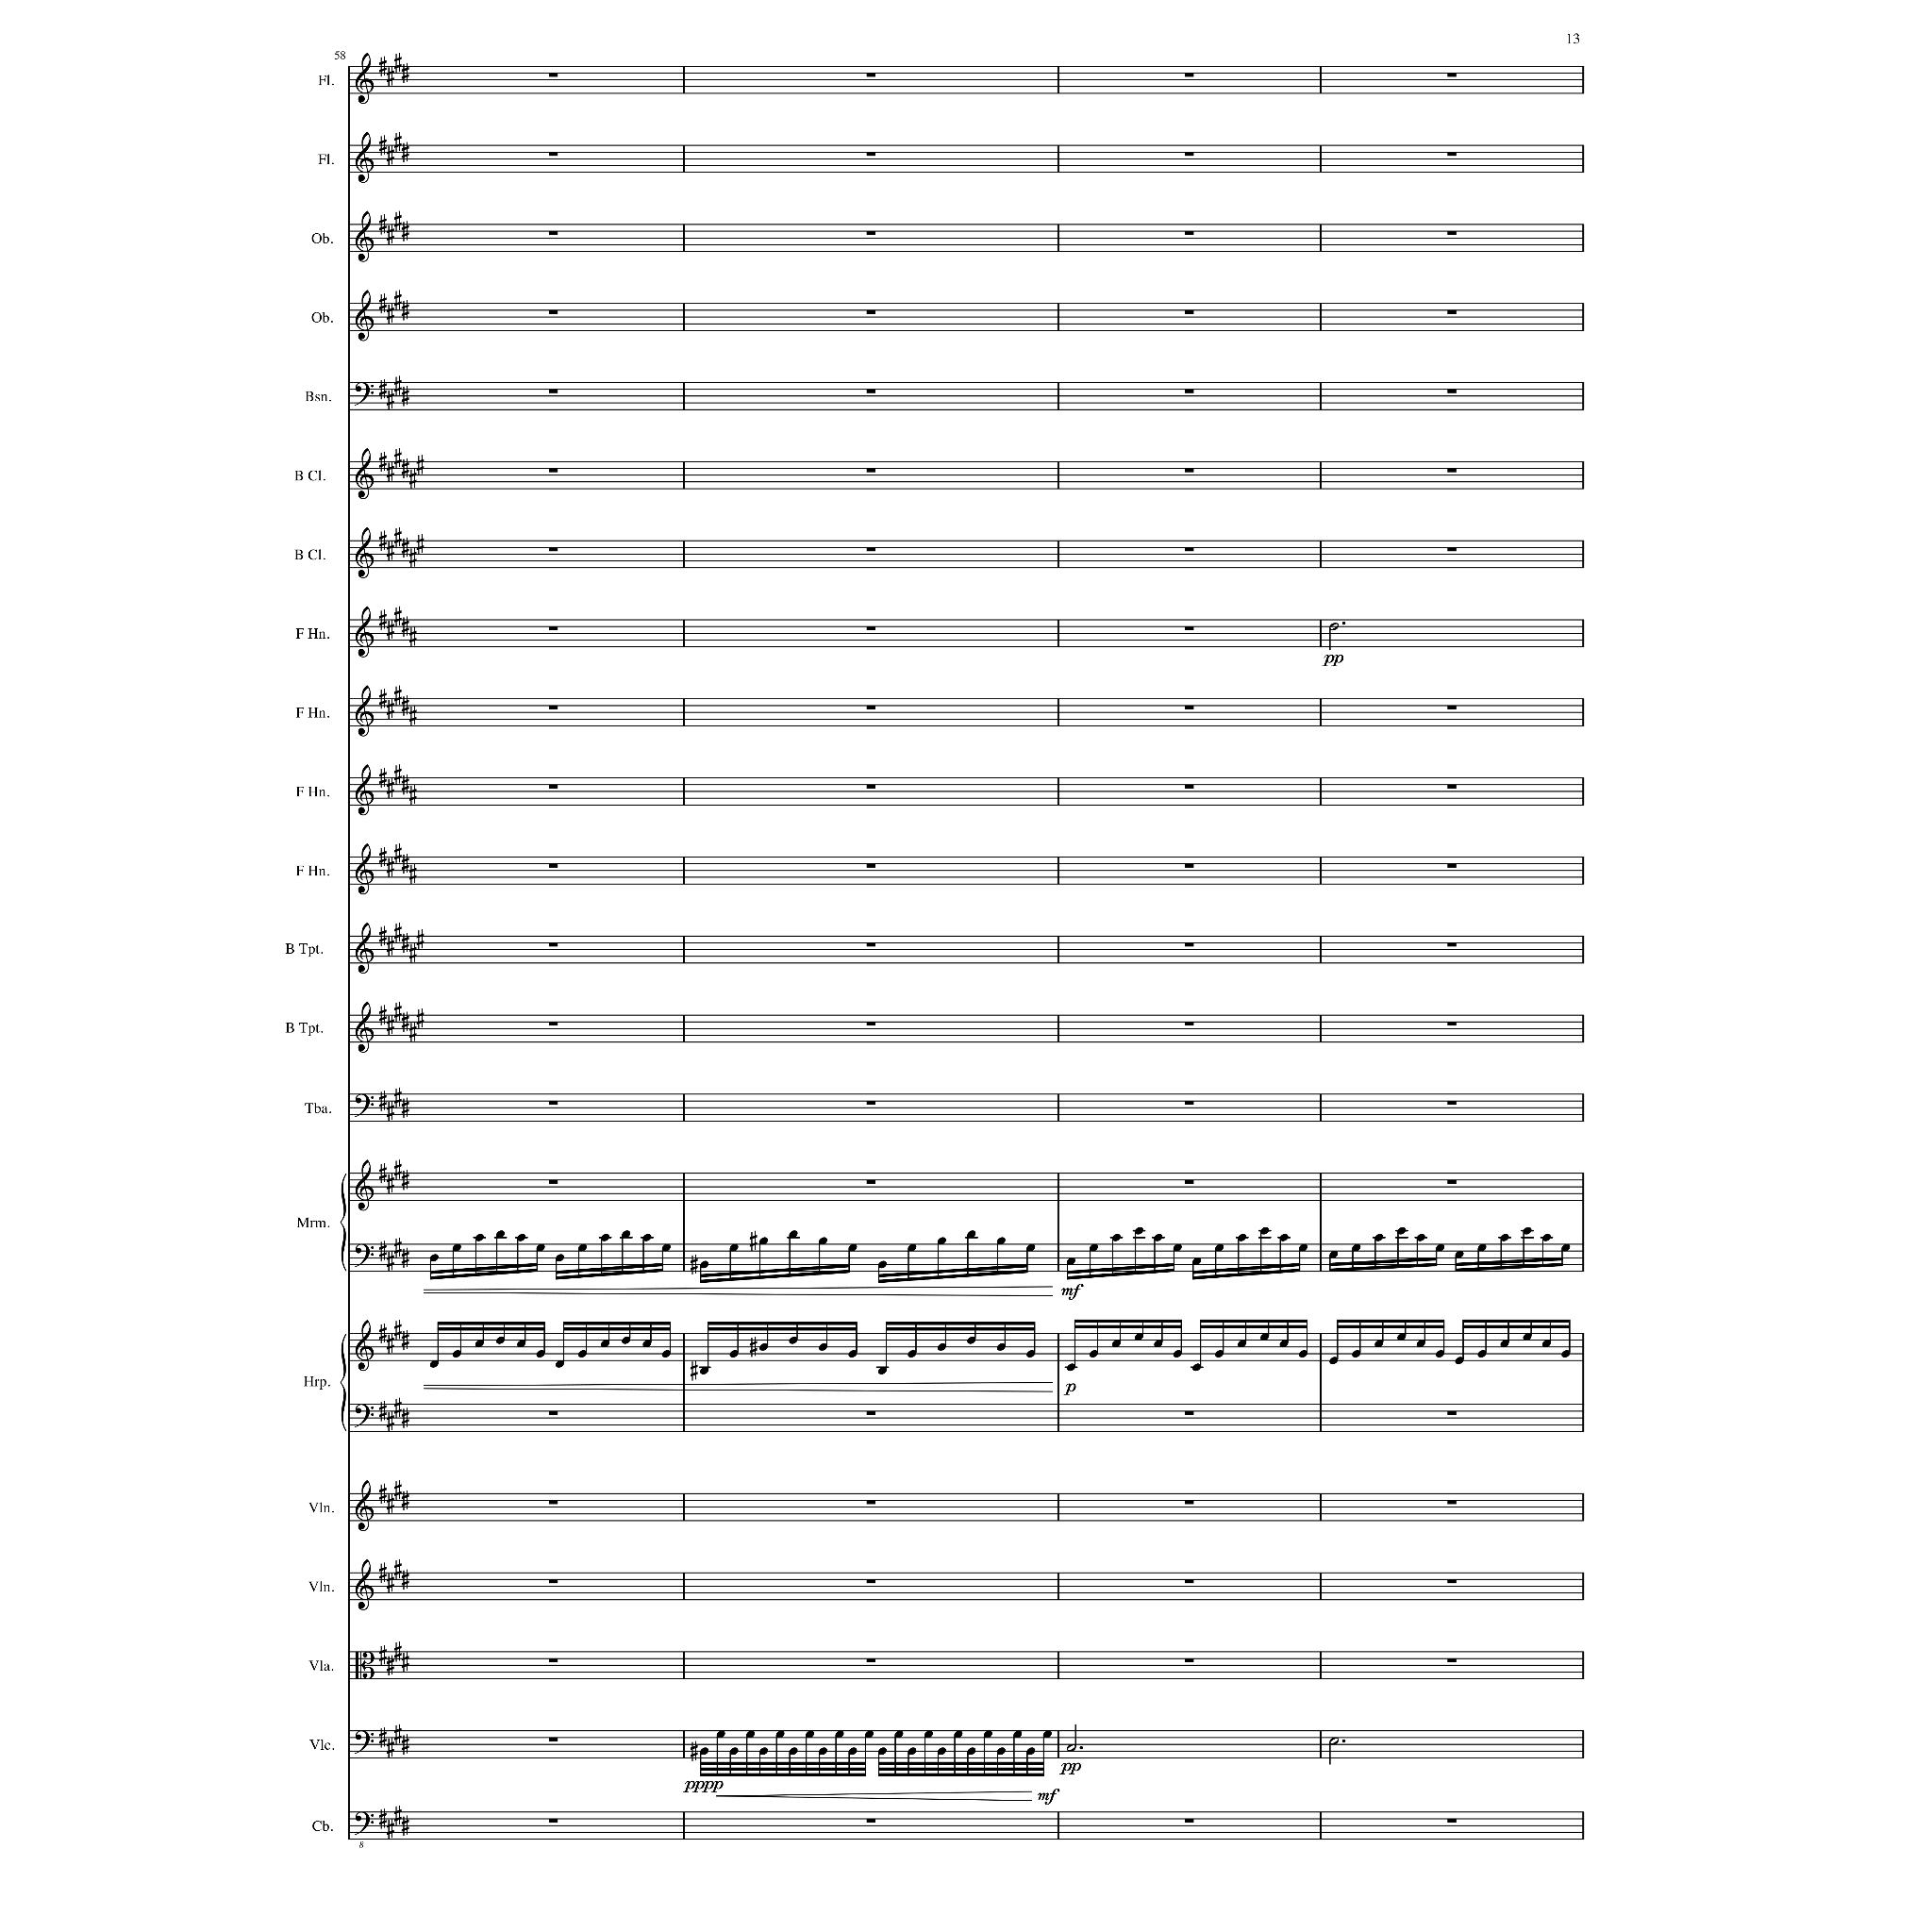brace: (340, 1173, 345, 1272), (340, 1334, 345, 1431)
fClef: (354, 1093, 373, 1118), (354, 382, 373, 407), (354, 1812, 373, 1835), (354, 1730, 373, 1753), (354, 1244, 373, 1267), (354, 1405, 373, 1428)
gClef: (354, 842, 373, 895), (354, 1479, 373, 1532), (354, 288, 373, 341), (354, 131, 373, 184), (354, 1161, 373, 1212), (354, 1001, 373, 1053), (354, 922, 373, 973), (354, 1559, 373, 1610), (354, 1320, 373, 1371), (354, 211, 373, 262), (354, 53, 373, 104), (354, 764, 373, 816), (354, 685, 373, 736), (354, 607, 373, 658), (354, 527, 373, 579), (354, 448, 373, 499)
noteheadBlack: (1214, 1244, 1224, 1253), (1191, 1362, 1201, 1371), (1088, 1244, 1099, 1253), (1373, 1339, 1384, 1348), (1373, 1233, 1384, 1242), (1415, 1339, 1426, 1348), (1415, 1233, 1426, 1242), (1541, 1233, 1552, 1242), (1541, 1339, 1552, 1348), (1454, 1355, 1465, 1364), (534, 1244, 545, 1253), (474, 1339, 485, 1348), (474, 1233, 485, 1242), (577, 1244, 587, 1253), (906, 1746, 916, 1755), (906, 1244, 916, 1253), (936, 1746, 947, 1755), (936, 1343, 947, 1352), (936, 1237, 947, 1246), (787, 1230, 798, 1238), (787, 1746, 798, 1755), (1299, 1244, 1307, 1253), (1329, 1355, 1338, 1364), (1279, 1233, 1288, 1242), (1260, 1332, 1269, 1341), (1237, 1233, 1246, 1242), (1237, 1339, 1246, 1348), (1279, 1339, 1288, 1348), (1067, 1362, 1076, 1371), (1173, 1244, 1182, 1253), (1154, 1339, 1162, 1348), (1154, 1233, 1162, 1242), (1111, 1339, 1120, 1348), (1111, 1233, 1120, 1242), (1134, 1332, 1143, 1341), (1352, 1244, 1361, 1253), (1396, 1332, 1405, 1341), (1523, 1332, 1532, 1341), (1560, 1244, 1569, 1253), (1435, 1244, 1444, 1253), (1500, 1339, 1509, 1348), (1500, 1233, 1509, 1242), (1477, 1244, 1486, 1253), (517, 1339, 525, 1348), (517, 1233, 525, 1242), (495, 1230, 504, 1238), (451, 1244, 460, 1253), (699, 1746, 708, 1755), (662, 1244, 671, 1253), (600, 1339, 609, 1348), (600, 1233, 609, 1242), (642, 1339, 651, 1348), (642, 1233, 651, 1242), (621, 1230, 630, 1238), (878, 1746, 886, 1755), (847, 1244, 856, 1253), (847, 1746, 856, 1755), (996, 1746, 1005, 1755), (996, 1343, 1005, 1352), (996, 1237, 1005, 1246), (1026, 1746, 1035, 1755), (1026, 1244, 1035, 1253), (966, 1746, 975, 1755), (966, 1230, 975, 1238), (729, 1746, 738, 1755), (729, 1244, 738, 1253), (759, 1343, 768, 1352), (759, 1746, 768, 1755), (759, 1237, 768, 1246), (1191, 1258, 1201, 1265), (1088, 1350, 1099, 1357), (1214, 1350, 1224, 1357), (1454, 1251, 1465, 1258), (534, 1350, 545, 1357), (577, 1350, 587, 1357), (863, 1730, 874, 1737), (906, 1350, 916, 1357), (833, 1730, 844, 1737), (715, 1730, 725, 1737), (745, 1730, 755, 1737), (787, 1338, 798, 1345), (1299, 1350, 1307, 1357), (1329, 1251, 1338, 1258), (1260, 1228, 1269, 1235), (1042, 1730, 1051, 1737), (1067, 1258, 1076, 1265), (1173, 1350, 1182, 1357), (1134, 1228, 1143, 1235), (1352, 1350, 1361, 1357), (1396, 1228, 1405, 1235), (1523, 1228, 1532, 1235), (1560, 1350, 1569, 1357), (1435, 1350, 1444, 1357), (1477, 1350, 1486, 1357), (495, 1338, 504, 1345), (556, 1361, 564, 1368), (556, 1254, 564, 1261), (430, 1361, 439, 1368), (430, 1254, 439, 1261), (451, 1350, 460, 1357), (699, 1368, 708, 1375), (699, 1261, 708, 1269), (662, 1350, 671, 1357), (621, 1338, 630, 1345), (878, 1261, 886, 1269), (878, 1368, 886, 1375), (893, 1730, 902, 1737), (819, 1343, 826, 1352), (819, 1746, 826, 1755), (819, 1237, 826, 1246), (805, 1730, 814, 1737), (847, 1350, 856, 1357), (984, 1730, 993, 1737), (1026, 1350, 1035, 1357), (1012, 1730, 1021, 1737), (924, 1730, 932, 1737), (966, 1338, 975, 1345), (954, 1730, 962, 1737), (729, 1350, 738, 1357), (775, 1730, 784, 1737)
noteheadHalf: (1329, 1737, 1339, 1744), (1329, 623, 1339, 630), (1067, 1744, 1076, 1752)
restWhole: (1184, 1658, 1194, 1663), (865, 863, 876, 869), (865, 1021, 876, 1026), (865, 784, 876, 789), (865, 1410, 876, 1415), (865, 1658, 876, 1663), (865, 73, 876, 78), (865, 230, 876, 235), (865, 310, 876, 315), (865, 389, 876, 395), (865, 547, 876, 552), (1184, 784, 1194, 789), (1184, 863, 1194, 869), (1184, 1021, 1194, 1026), (1184, 1410, 1194, 1415), (1184, 73, 1194, 78), (1184, 230, 1194, 235), (1184, 310, 1194, 315), (1184, 389, 1194, 395), (1184, 547, 1194, 552), (548, 73, 557, 78), (548, 863, 557, 869), (548, 784, 557, 789), (548, 547, 557, 552), (548, 389, 557, 395), (548, 310, 557, 315), (548, 230, 557, 235), (548, 1021, 557, 1026), (1447, 230, 1456, 235), (1447, 1021, 1456, 1026), (1447, 863, 1456, 869), (1447, 784, 1456, 789), (1447, 547, 1456, 552), (1447, 389, 1456, 395), (1447, 310, 1456, 315), (1447, 73, 1456, 78), (548, 1658, 557, 1663), (548, 1410, 557, 1415), (1447, 1410, 1456, 1415), (1447, 1658, 1456, 1663), (1184, 1819, 1194, 1822), (865, 943, 876, 947), (865, 1100, 876, 1104), (865, 1180, 876, 1184), (865, 1500, 876, 1504), (865, 1580, 876, 1583), (865, 152, 876, 156), (865, 1819, 876, 1822), (865, 469, 876, 472), (865, 626, 876, 630), (865, 706, 876, 709), (1184, 1100, 1194, 1104), (1184, 706, 1194, 709), (1184, 943, 1194, 947), (1184, 626, 1194, 630), (1184, 1180, 1194, 1184), (1184, 1500, 1194, 1504), (1184, 1580, 1194, 1583), (1184, 152, 1194, 156), (1184, 469, 1194, 472), (548, 943, 557, 947), (548, 706, 557, 709), (548, 626, 557, 630), (548, 469, 557, 472), (548, 152, 557, 156), (1447, 1180, 1456, 1184), (1447, 1100, 1456, 1104), (1447, 943, 1456, 947), (1447, 706, 1456, 709), (1447, 469, 1456, 472), (1447, 152, 1456, 156), (548, 1819, 557, 1822), (548, 1737, 557, 1741), (548, 1580, 557, 1583), (548, 1500, 557, 1504), (548, 1180, 557, 1184), (548, 1100, 557, 1104), (1447, 1819, 1456, 1822), (1447, 1580, 1456, 1583), (1447, 1500, 1456, 1504)
